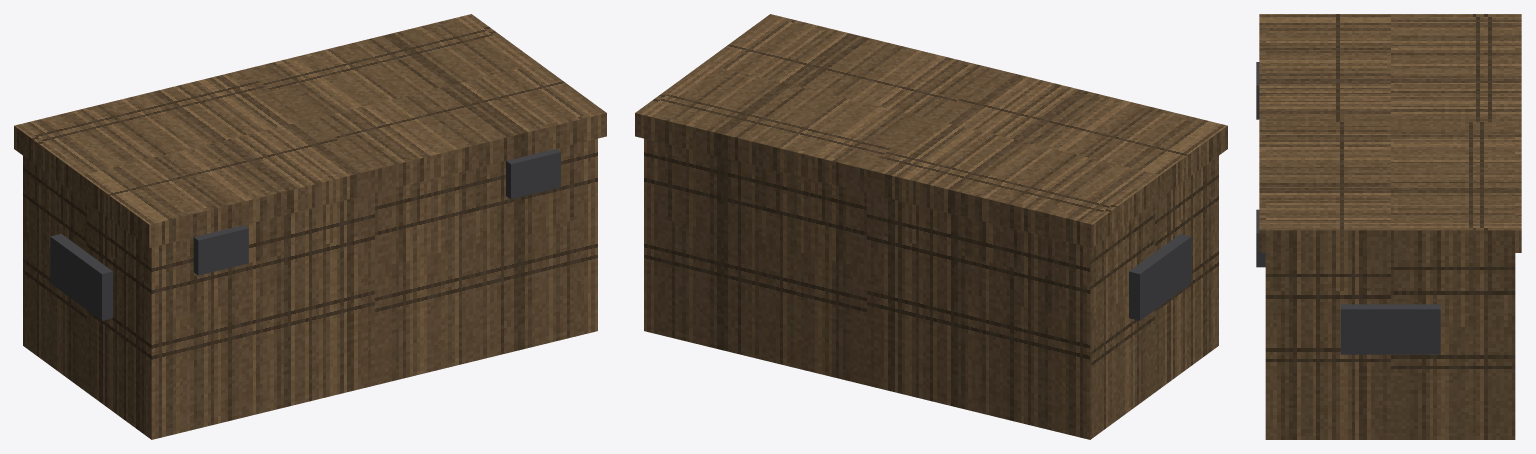
The model's file is fb_footlocker.glb.
3 views of the same model, side by side, from view 1: azimuth 30°, elevation 25°; view 2: azimuth 150°, elevation 25°; view 3: azimuth 270°, elevation 25° (orthographic). The views are drawn at different scales.
Visible parts, largest first — view 1: fb_footlocker; view 2: fb_footlocker; view 3: fb_footlocker.
Part boxes in pixels (x1,y1,x2,y2): fb_footlocker: (14,14,606,439); fb_footlocker: (635,14,1227,439); fb_footlocker: (1256,14,1521,439).
Size of what is drawn, in the model's own units: 0.84 by 0.375 by 0.425.
Materials: 2 (1 with a texture image).
